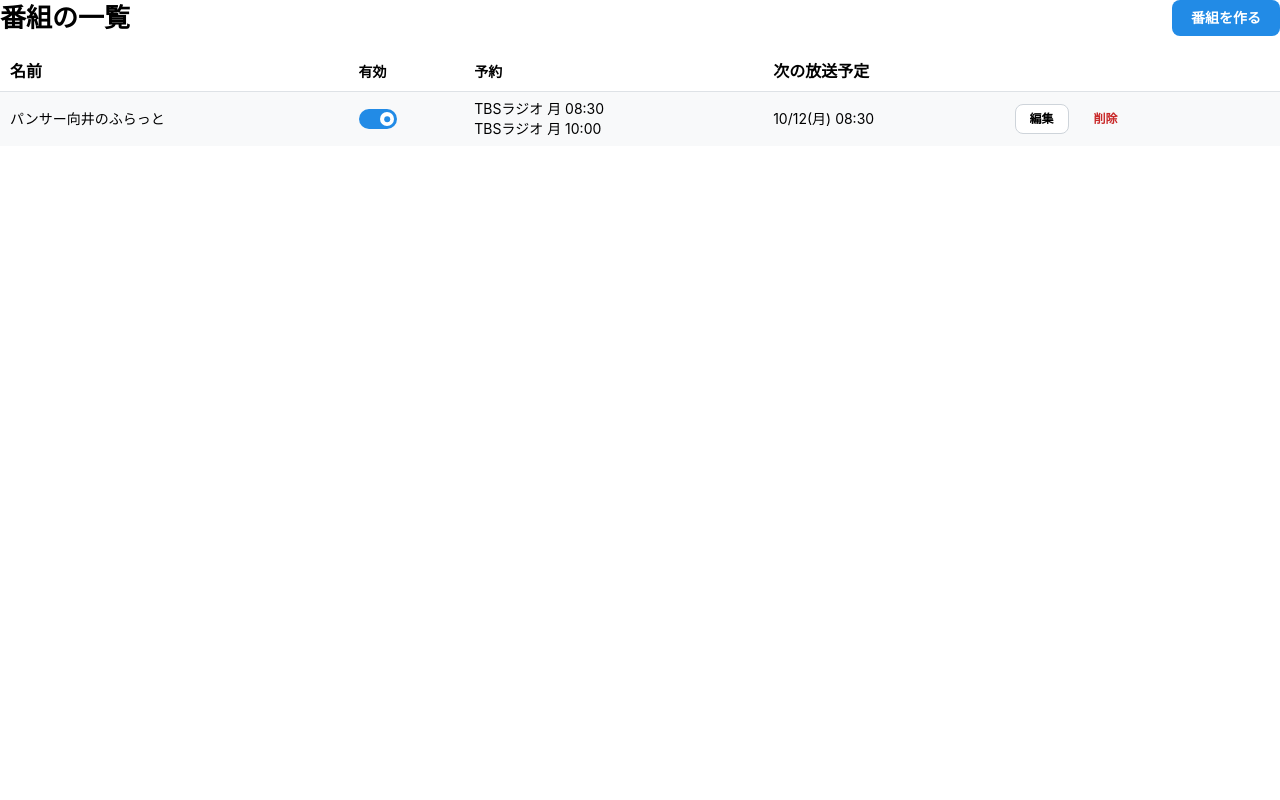
it: ShowsPage › 件数を取れなくても、確かめて無効にできる（件数は出さない）
The image size is (1280, 800).
Click the switch named "パンサー向井のふらっと を有効にする". click: {"x": 378, "y": 119}
box: [359,109,397,129]
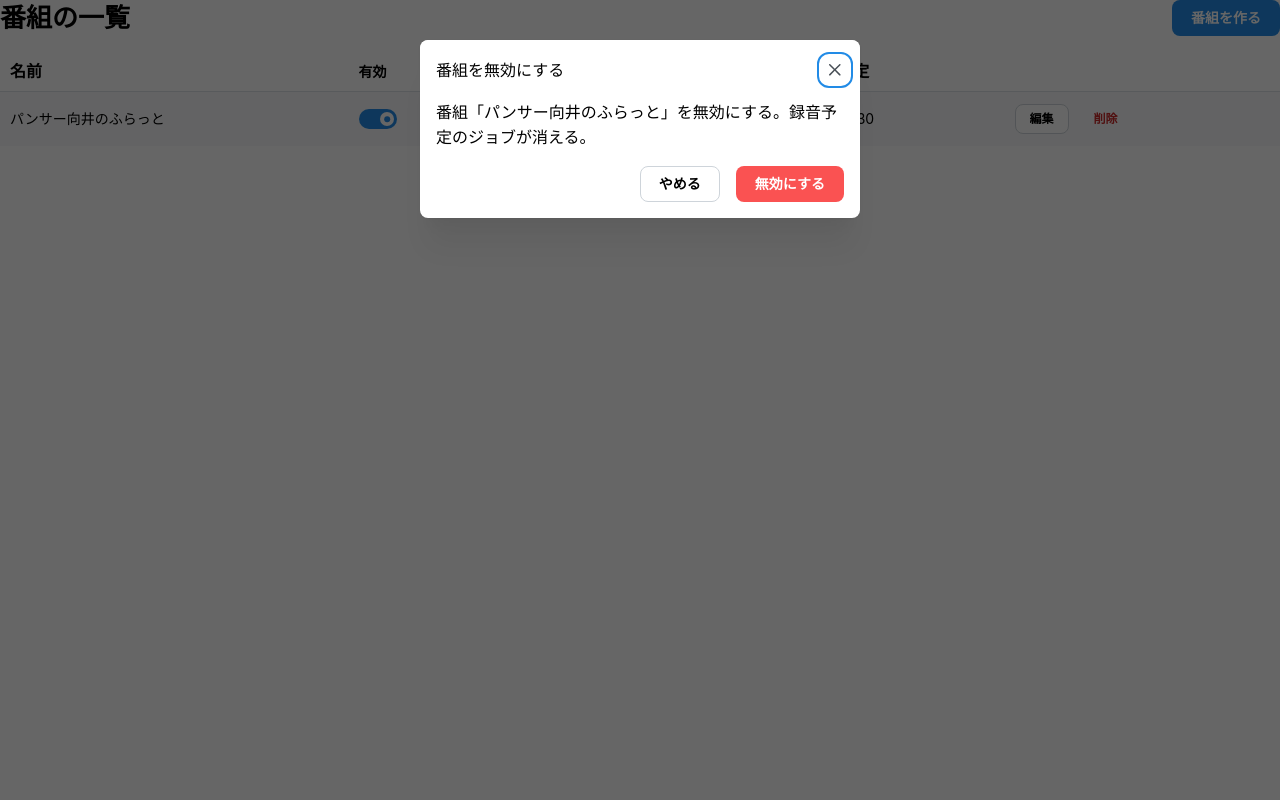
Result: the dialog shows "録音予定のジョブが消える" at [436,102,837,147]
Click the button "無効にする". click: {"x": 790, "y": 184}
box: [736,166,844,202]
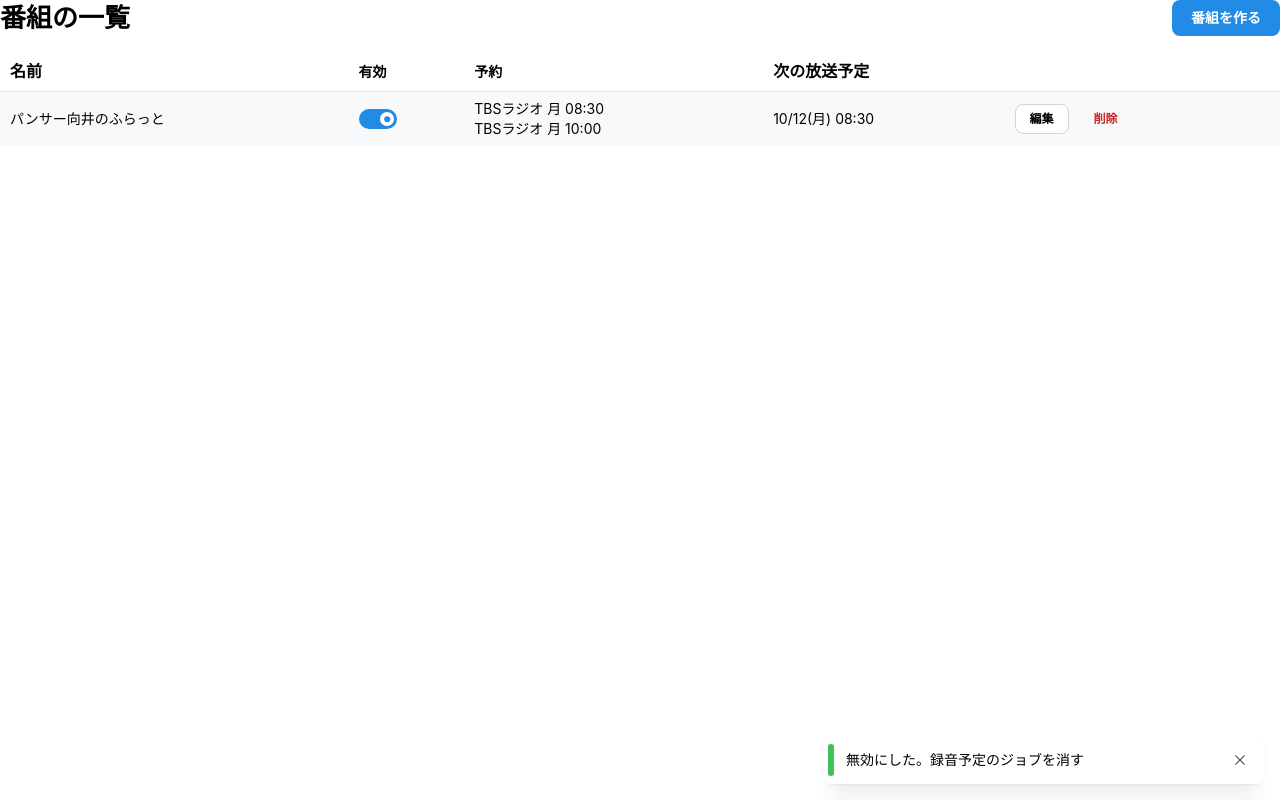
Result: the text "無効にした。録音予定のジョブを消す" is shown at [846,751,1084,768]
